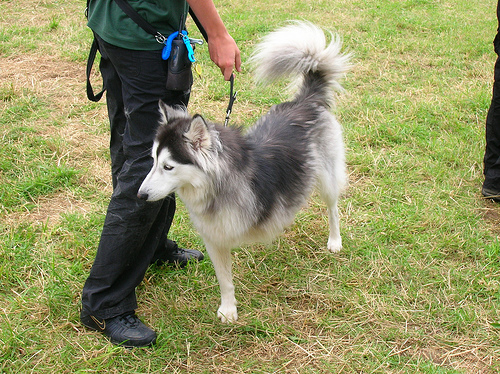dog: (131, 20, 360, 328)
